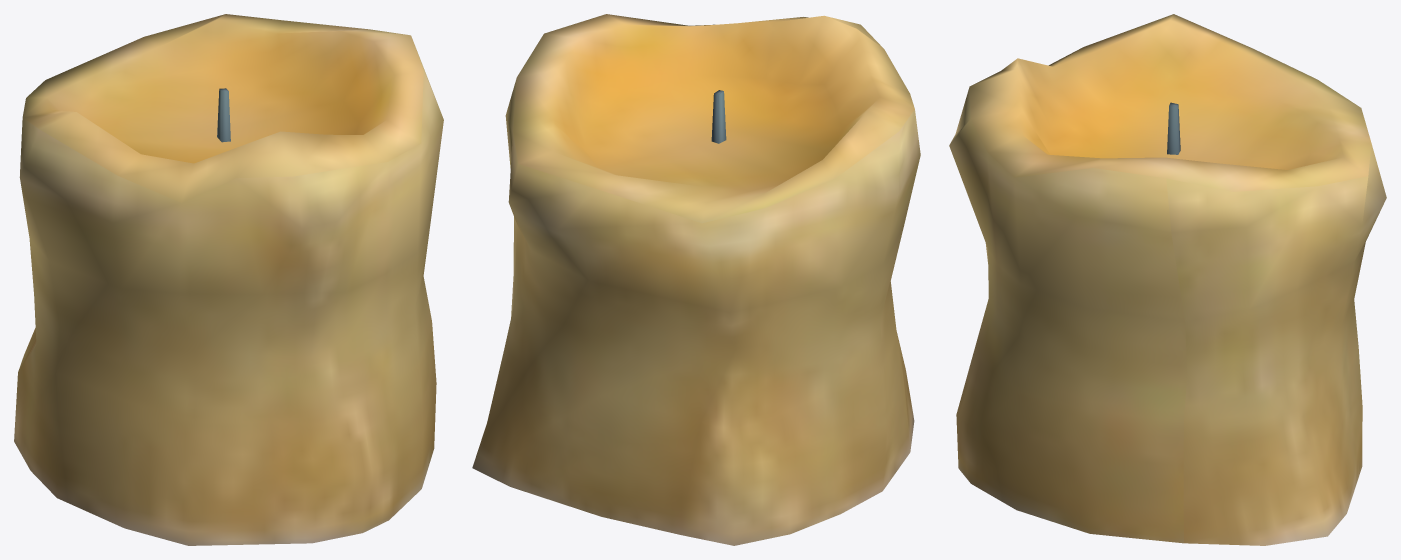
The model's file is Candle_3.gltf.
3 views of the same model, side by side, from view 1: azimuth 30°, elevation 25°; view 2: azimuth 150°, elevation 25°; view 3: azimuth 270°, elevation 25° (orthographic). The views are drawn at different scales.
Visible parts, largest first — view 1: Candle_3; view 2: Candle_3; view 3: Candle_3.
Part boxes in pixels (x1,y1,x2,y2): Candle_3: (14, 14, 443, 545); Candle_3: (472, 14, 920, 545); Candle_3: (949, 14, 1386, 545).
Bounding box in the file's own units: 0.1539 × 0.1493 × 0.158.
Materials: 1 (1 with a texture image).
